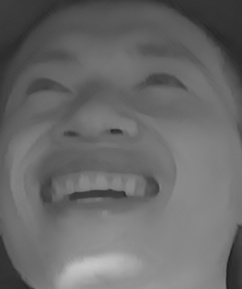eye: (132, 66, 196, 98), (23, 75, 77, 101)
mouth: (32, 147, 166, 224)
